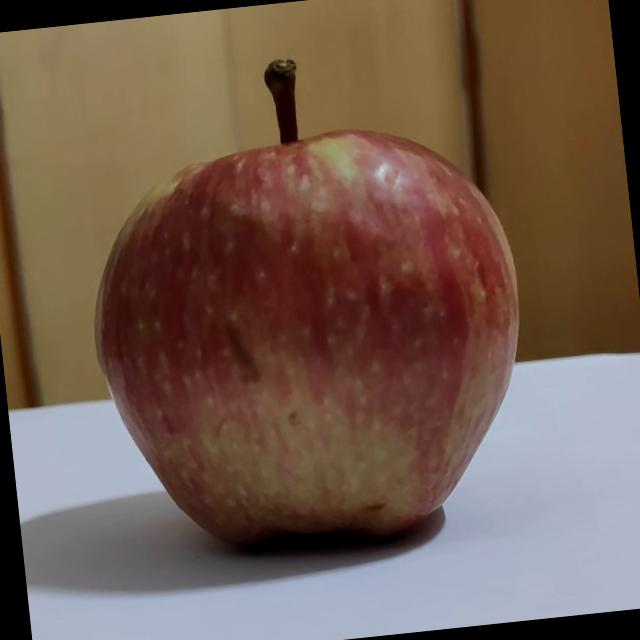apple: (58, 31, 546, 566)
